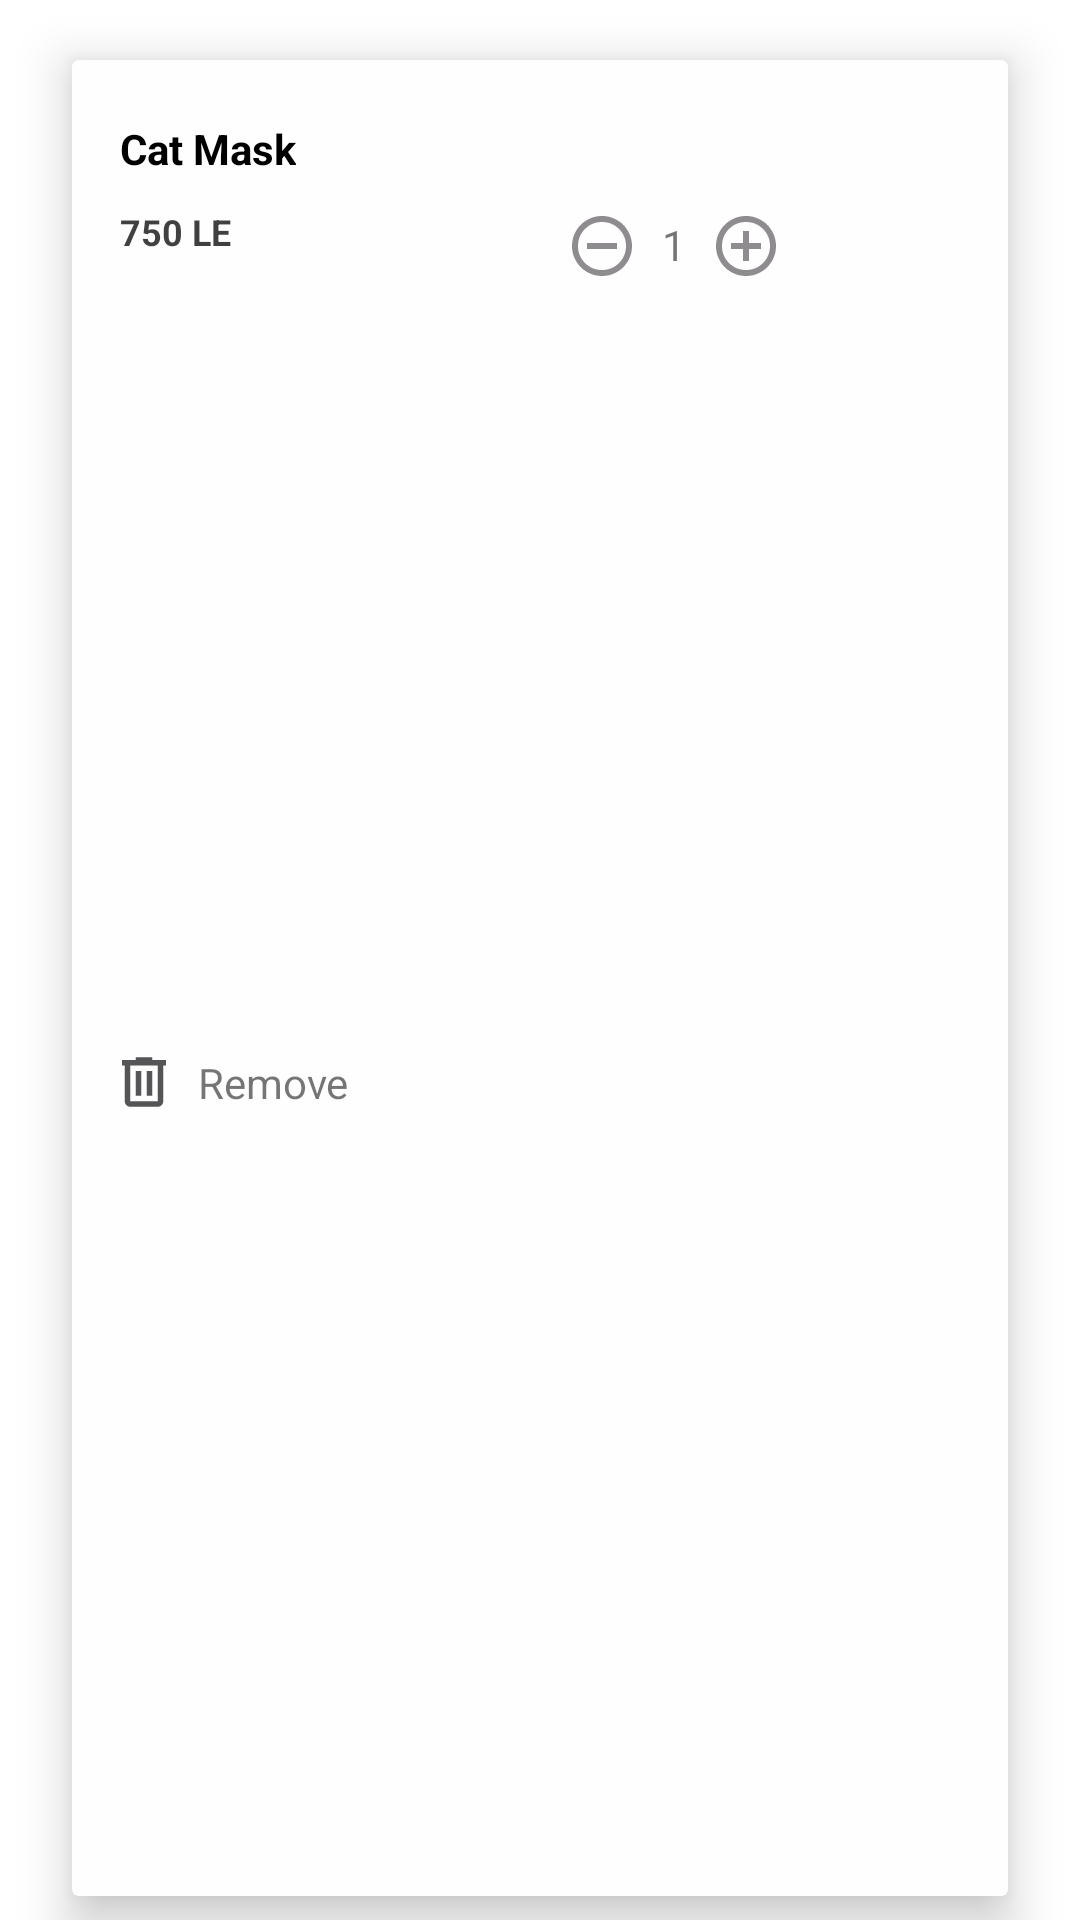

Icons on this 1080x1920 Android screen, each with the point to tap as point (x, y):
add circle: point (746, 246)
bin: point (144, 1082)
subtract circle: point (602, 246)
